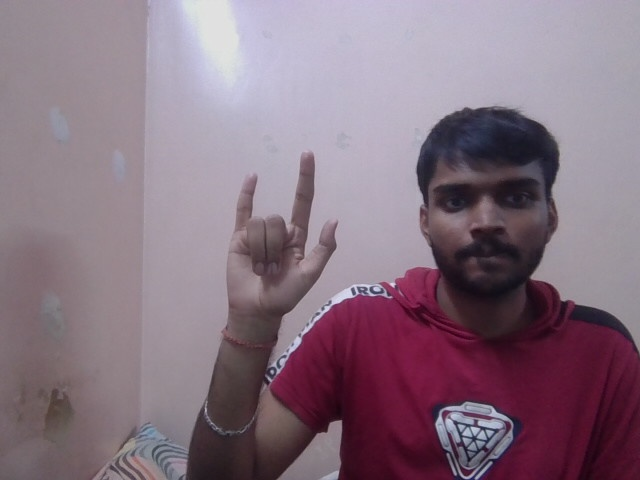I Love You: (218, 150, 339, 311)
